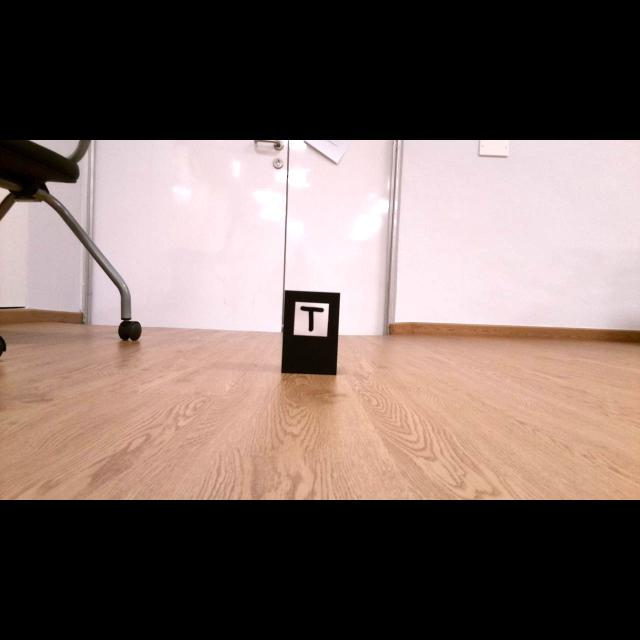T: (300, 306, 324, 332)
